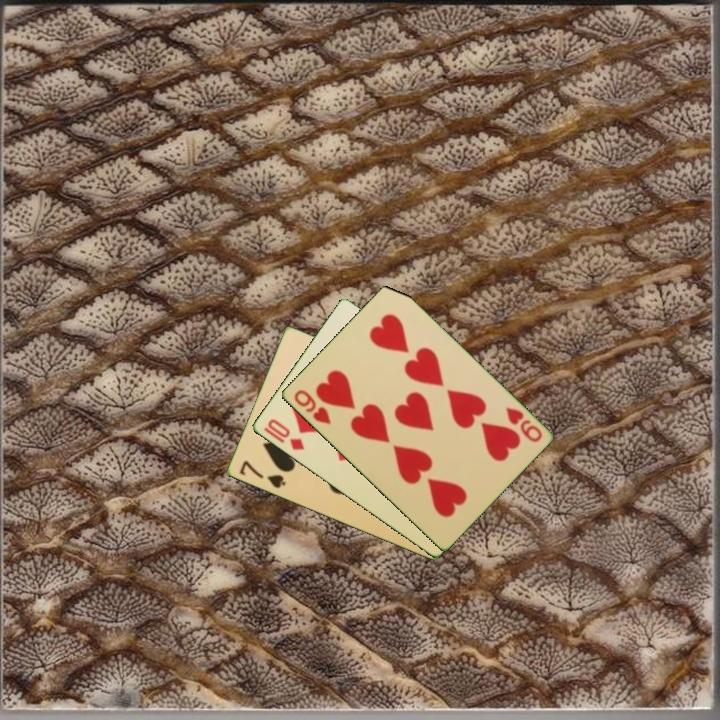10d: (260, 415, 307, 453)
7s: (235, 457, 288, 491)
9h: (290, 386, 333, 427), (502, 404, 545, 445)
